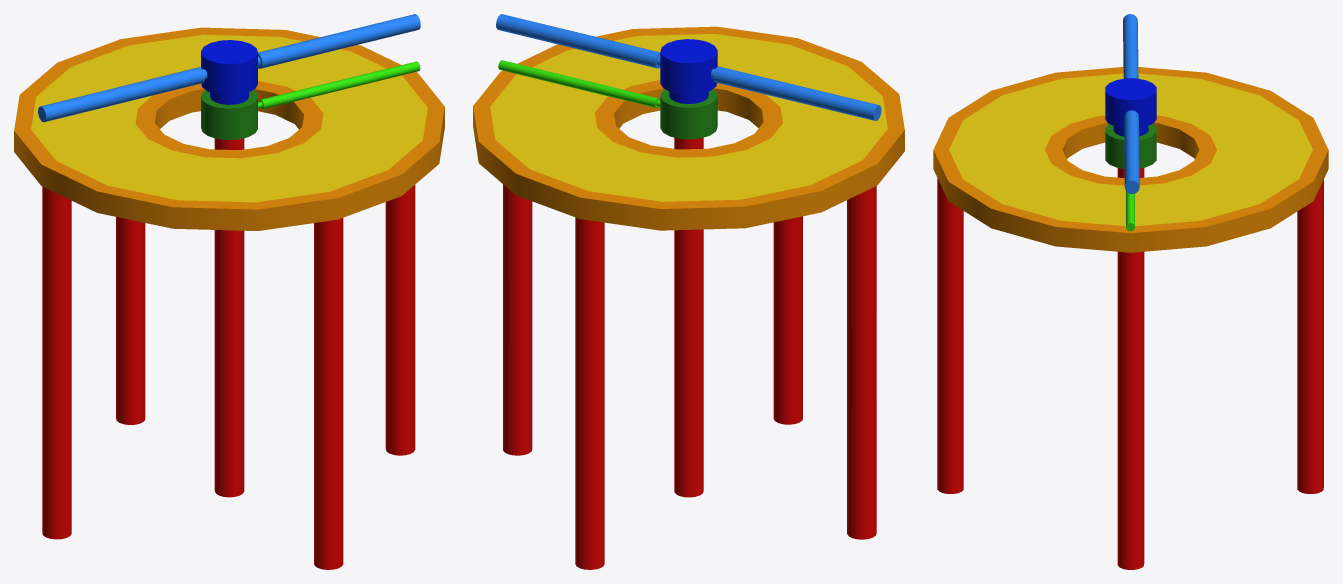
File: wheel of fear 1.fbx
3 views of the same model, side by side, from view 1: azimuth 30°, elevation 25°; view 2: azimuth 150°, elevation 25°; view 3: azimuth 270°, elevation 25° (orthographic). The views are drawn at different scales.
Visible parts, largest first — view 1: WHEEL OF FEAR FLOOR, WHEEL OF FEAR TOP, WHEEL OF FEAR BOTTEM; view 2: WHEEL OF FEAR FLOOR, WHEEL OF FEAR TOP, WHEEL OF FEAR BOTTEM; view 3: WHEEL OF FEAR FLOOR, WHEEL OF FEAR TOP, WHEEL OF FEAR BOTTEM.
Part boxes in pixels (x1,y1,x2,y2): WHEEL OF FEAR FLOOR: (14, 27, 444, 569); WHEEL OF FEAR TOP: (38, 14, 420, 122); WHEEL OF FEAR BOTTEM: (201, 61, 420, 140); WHEEL OF FEAR FLOOR: (473, 26, 904, 569); WHEEL OF FEAR TOP: (496, 14, 881, 120); WHEEL OF FEAR BOTTEM: (498, 60, 717, 139); WHEEL OF FEAR FLOOR: (933, 67, 1328, 569); WHEEL OF FEAR TOP: (1105, 14, 1156, 193); WHEEL OF FEAR BOTTEM: (1105, 124, 1156, 231).
Size of the model in its own units: 20 by 22.3 by 20.
